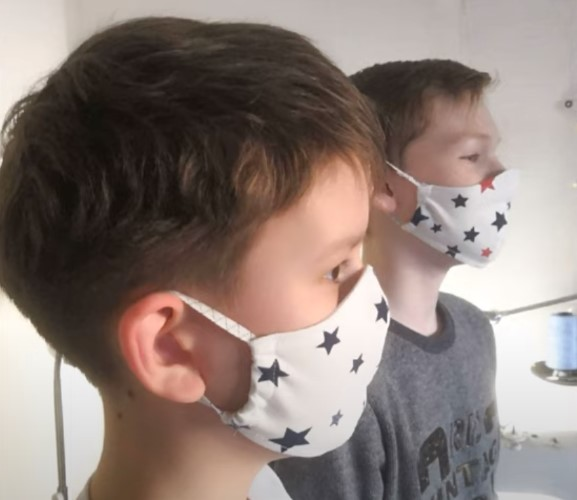face_with_mask: (40, 23, 392, 461), (365, 60, 516, 272)
